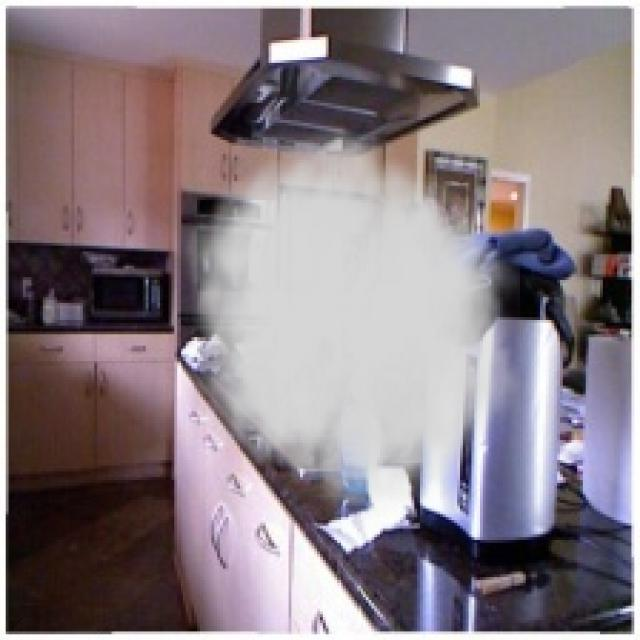Smoke: (171, 114, 520, 529)
